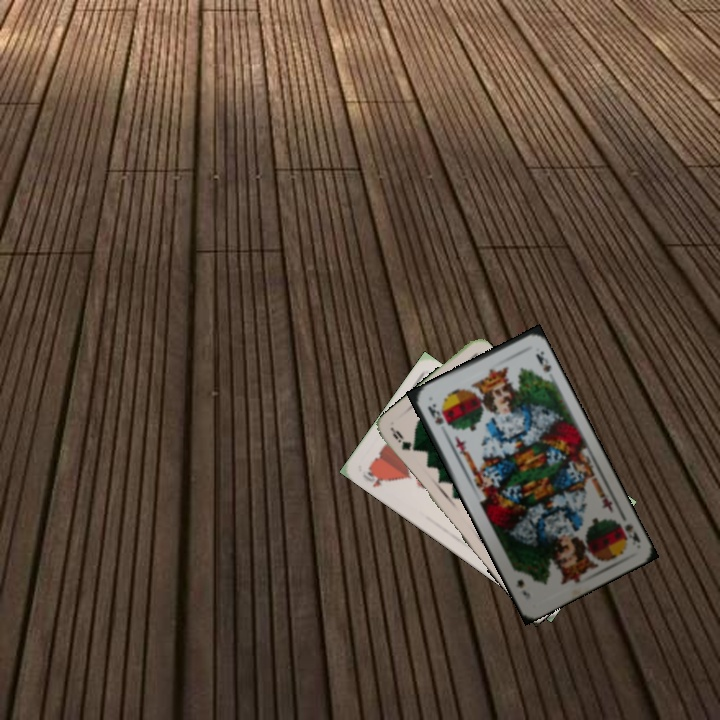G9: (388, 425, 413, 453)
HO: (359, 464, 390, 490)
SK: (424, 400, 447, 427), (620, 520, 643, 546)
